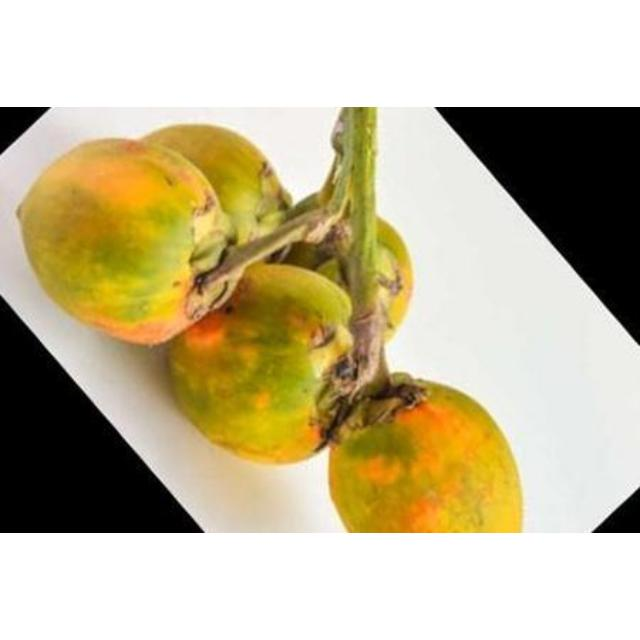good: (17, 138, 235, 344), (165, 264, 358, 462), (329, 378, 521, 534), (143, 124, 290, 264), (295, 218, 413, 346)
